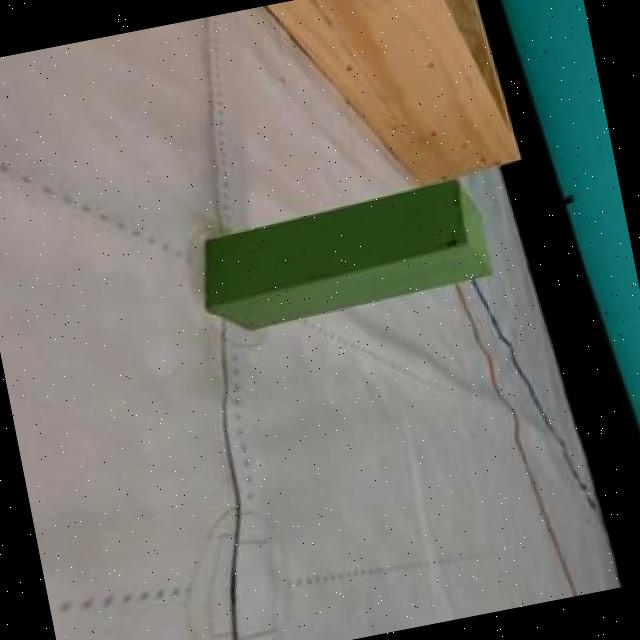greenbox: (188, 176, 500, 342)
